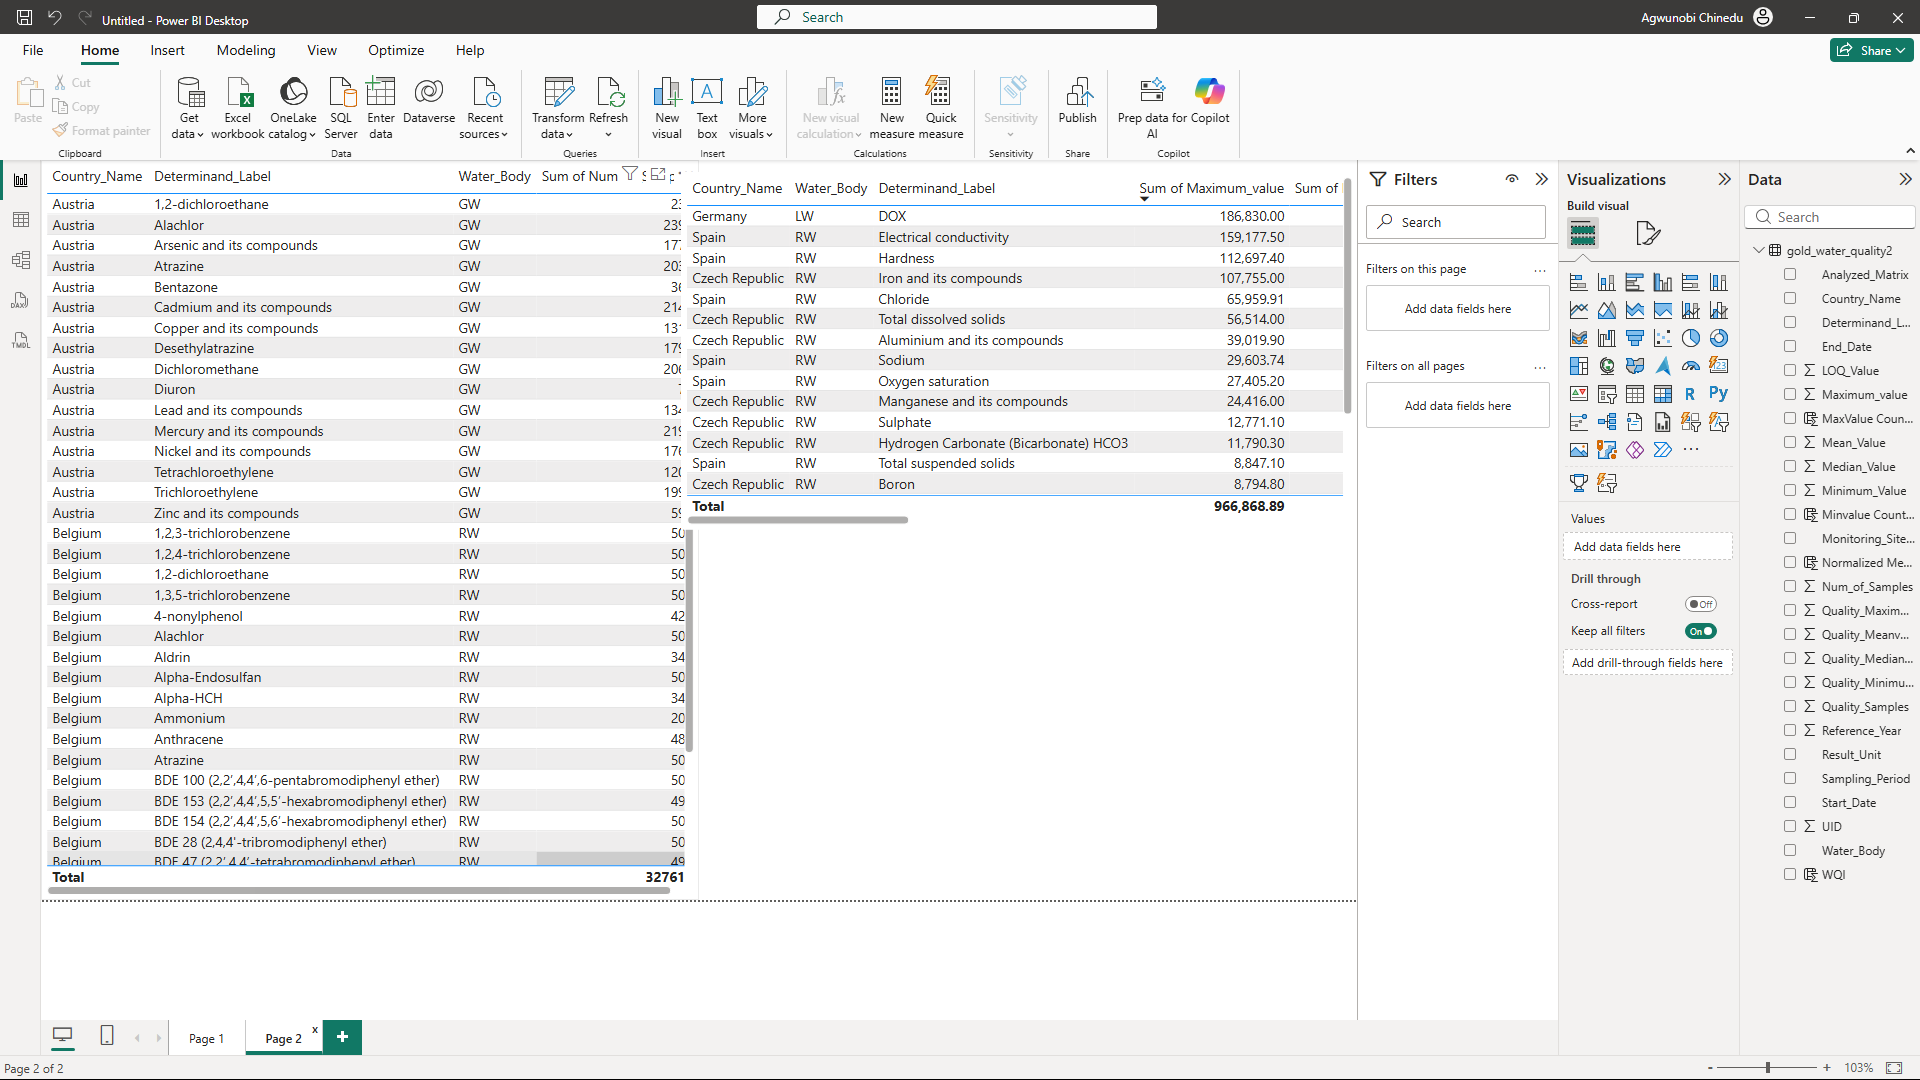

What the dashboard file says about the page in this screenshot:
{"tool":"powerbi","page":{"name":"Page 2","canvas":[1280,720],"ordinal":1},"visuals":[{"type":"tableEx","fields":{"Values":["gold_water_quality2.Country_Name","gold_water_quality2.Determinand_Label","gold_water_quality2.Water_Body","Sum(gold_water_quality2.Num_of_Samples)"]},"box":[0,0,640,719.8],"z":0},{"type":"tableEx","fields":{"Values":["gold_water_quality2.Country_Name","gold_water_quality2.Water_Body","gold_water_quality2.Determinand_Label","Sum(gold_water_quality2.Maximum_value)","Sum(gold_water_quality2.Minimum_Value)","Sum(gold_water_quality2.Mean_Value)","Sum(gold_water_quality2.Median_Value)","Sum(gold_water_quality2.Quality_MaximumValue)","Sum(gold_water_quality2.Quality_Meanvalue)","Sum(gold_water_quality2.Quality_MedianValue)","Sum(gold_water_quality2.Quality_MinimumValue)","Sum(gold_water_quality2.Quality_Samples)"]},"box":[622.5,11.7,657.5,348.2],"z":1}]}

Visuals, with their boxes on the page's 1280x720 design canvas (x1, y1, x2, y2). These are canvas units, not pixel positions in the 1920x1080 screenshot, which may show the page scaled, cropped or inside an application window:
tableEx - gold_water_quality2.Country_Name x gold_water_quality2.Determinand_Label: Rect(0, 0, 640, 720)
tableEx - gold_water_quality2.Country_Name x gold_water_quality2.Water_Body: Rect(622, 12, 1280, 360)
